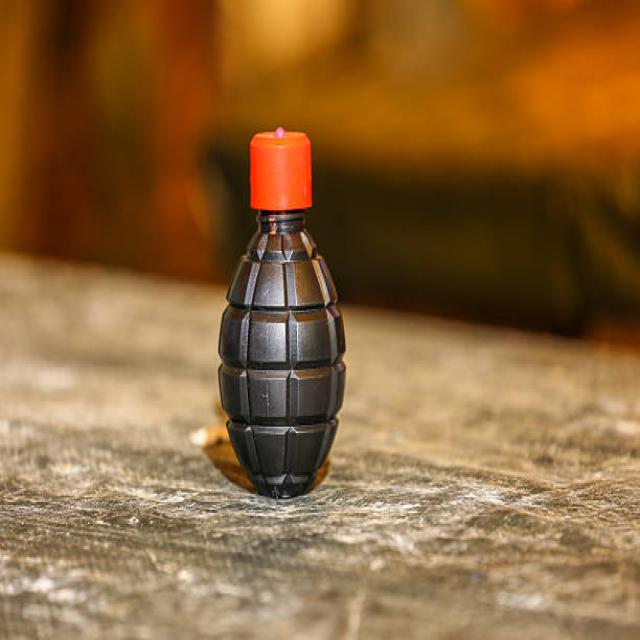grenade: (219, 121, 357, 503)
